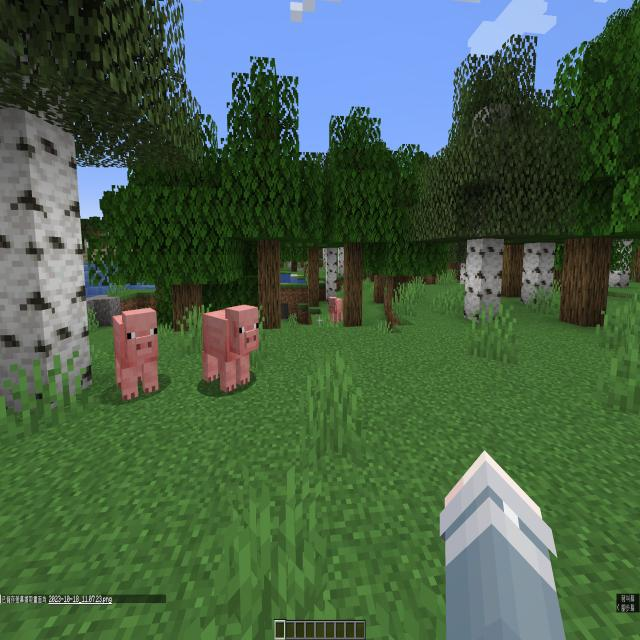pig: (196, 295, 262, 403), (108, 296, 162, 411), (326, 293, 347, 332)
